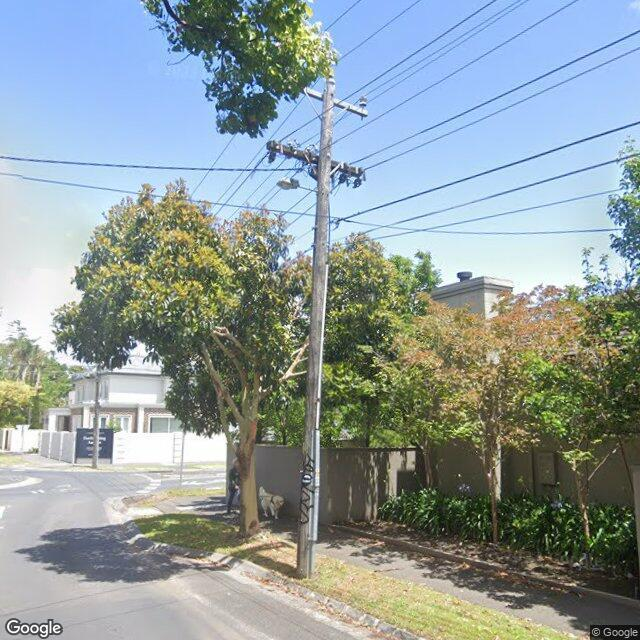HV-transmission: (328, 69, 368, 107)
crossarm: (266, 140, 363, 178), (302, 86, 368, 118)
streetlight: (276, 178, 318, 193)
timber-pole: (296, 79, 336, 579)
